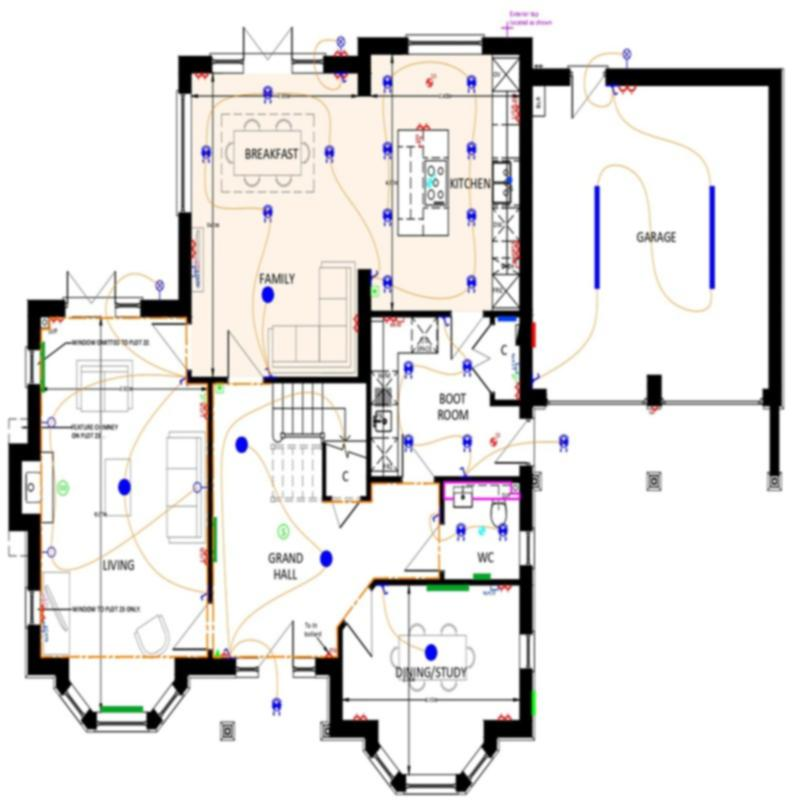BT Entry Point: (214, 649, 220, 657)
Cat 6 Data Socket: (40, 621, 49, 642), (482, 585, 499, 595), (511, 353, 519, 374)
Ceiling Mounted Continuous Extract FanWith Boost Mode Activated By Light Switch: (479, 527, 485, 535)
Ceiling Mounted Continuous Extract FanWith Local Boost Switch: (490, 432, 500, 447), (426, 73, 436, 87), (396, 317, 404, 328)
Co-Ax TV Socket: (41, 594, 48, 608)
Consumer Unit: (515, 324, 520, 346)
Double Socket: (619, 85, 636, 95), (191, 239, 198, 258), (498, 584, 512, 593), (352, 314, 358, 332), (334, 73, 349, 80), (51, 317, 64, 325), (195, 72, 208, 80), (353, 713, 367, 720), (498, 713, 512, 720), (416, 123, 430, 130), (40, 605, 46, 621), (514, 383, 520, 399), (334, 50, 349, 56)
Electric Meter Box: (532, 322, 536, 348)
External Wall Light: (623, 48, 631, 68), (156, 280, 164, 299), (337, 36, 345, 51)
Fused spur: (326, 647, 336, 658)
Gas Meter Box: (532, 690, 535, 717)
Hob Switch: (415, 133, 423, 147)
Internal Wall Light: (41, 417, 56, 428), (193, 482, 208, 493), (42, 547, 56, 557)
Light Switch: (441, 316, 450, 327), (459, 467, 468, 476), (371, 270, 379, 280), (381, 585, 389, 595), (533, 373, 541, 383), (340, 73, 347, 84), (611, 85, 618, 96), (201, 591, 208, 601), (224, 648, 231, 658), (179, 377, 187, 385), (432, 514, 440, 522), (265, 368, 272, 376)
Low Energy Downlighter: (558, 434, 570, 453), (324, 145, 335, 164), (382, 75, 393, 94), (262, 204, 273, 223), (262, 86, 273, 104), (382, 142, 393, 160), (403, 361, 414, 379), (466, 275, 477, 293), (455, 523, 466, 541), (466, 142, 477, 160), (466, 75, 477, 93), (404, 434, 414, 453), (467, 208, 477, 227), (201, 145, 211, 163), (272, 698, 282, 716), (462, 359, 472, 377), (498, 523, 508, 541), (383, 208, 392, 227), (383, 274, 392, 293), (463, 434, 472, 452)
Low Energy Pendant Light: (424, 644, 438, 661), (261, 286, 275, 303), (117, 479, 131, 496), (320, 550, 333, 567), (235, 436, 248, 453)
Mains Wired Smoke Detector: (278, 524, 289, 539)
Outside Socket: (649, 405, 658, 415)
Outside Tap: (501, 22, 513, 37)
Programmable Room Thermostat: (371, 286, 379, 296), (215, 383, 223, 393)
Radiator: (100, 706, 143, 713), (427, 585, 469, 591), (212, 517, 217, 561), (41, 342, 45, 392), (473, 574, 491, 579)
Recirculating Extractor Fan: (426, 174, 436, 187)
Single Socket: (221, 649, 227, 657)
Telephone Socket: (200, 393, 208, 402), (512, 373, 519, 383)
Twin LED Strip Light: (595, 185, 600, 289), (710, 186, 715, 288)
USB Double Socket: (198, 547, 208, 566), (200, 402, 208, 420), (384, 316, 397, 327), (511, 240, 519, 257), (511, 105, 519, 122)
Underfloor Heating Manifold: (498, 316, 516, 322)
Water Entry Position: (505, 176, 512, 184)
